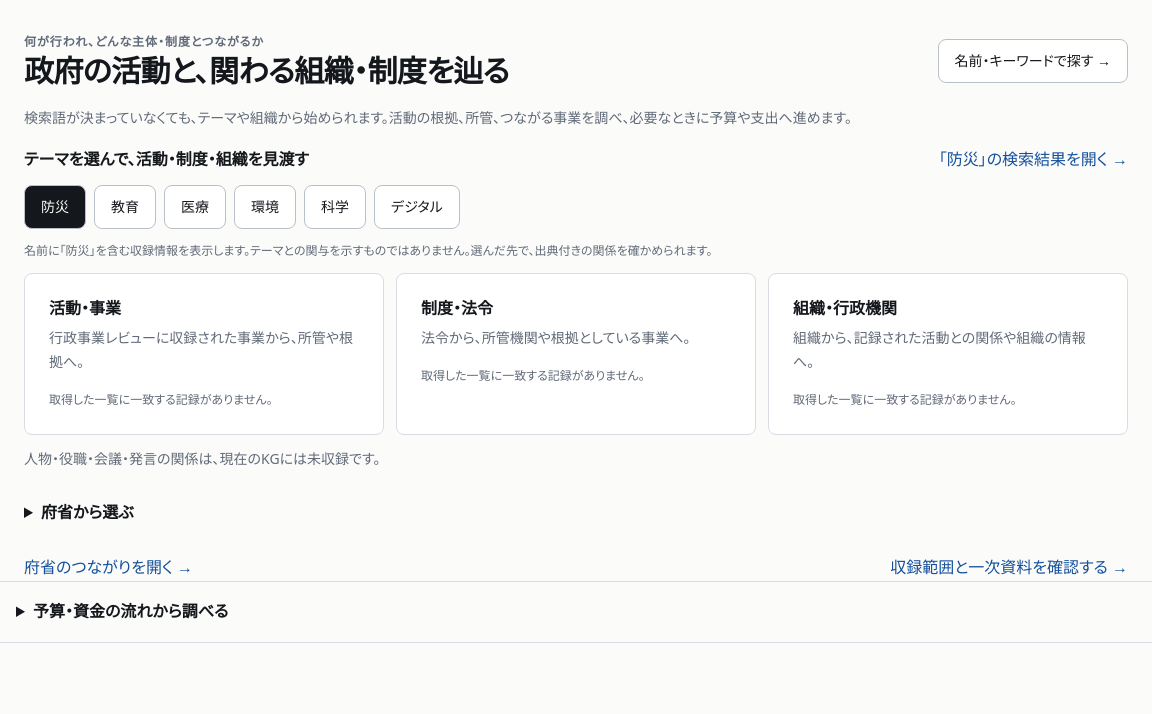
Test: TopPage(トップページ再設計) › APIが鮮度を返さない版でも壊れず、鮮度の行を出さない
Click the heading "予算・資金の流れから調べる". click: click(131, 611)
box: [0,581,1151,643]
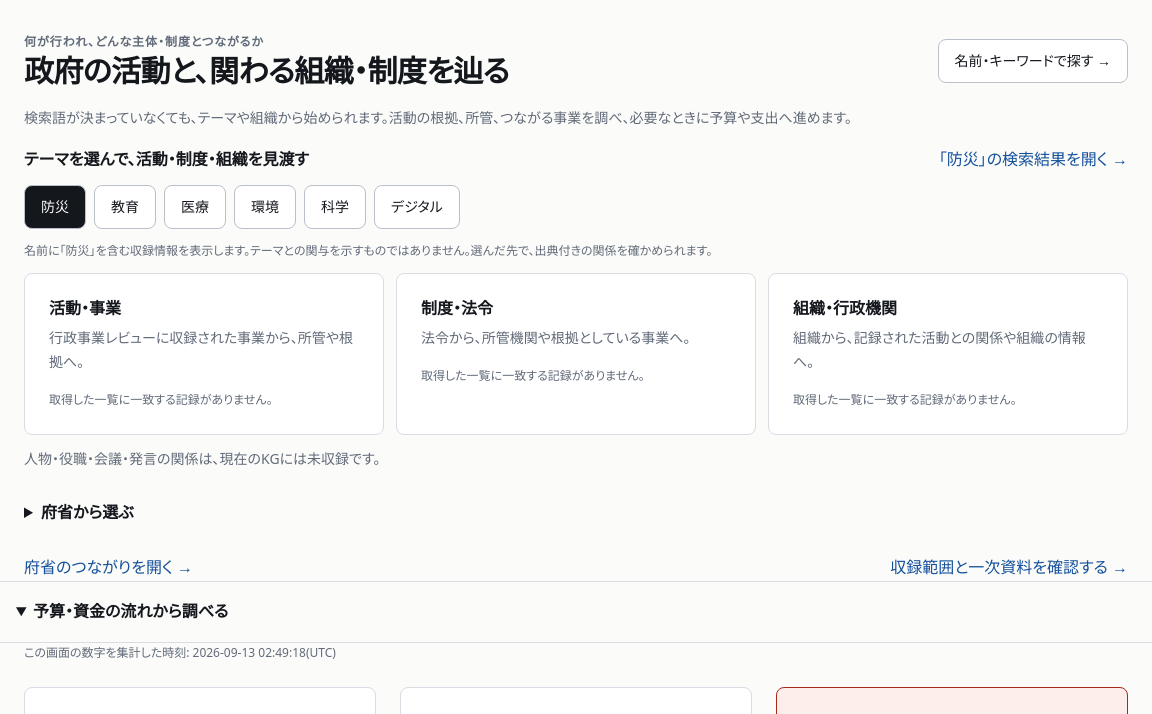
expect the text "この画面の数字を集計した時刻: 2026-09-13 02:49:18(UTC)" is shown: met, box [24,643,762,661]
